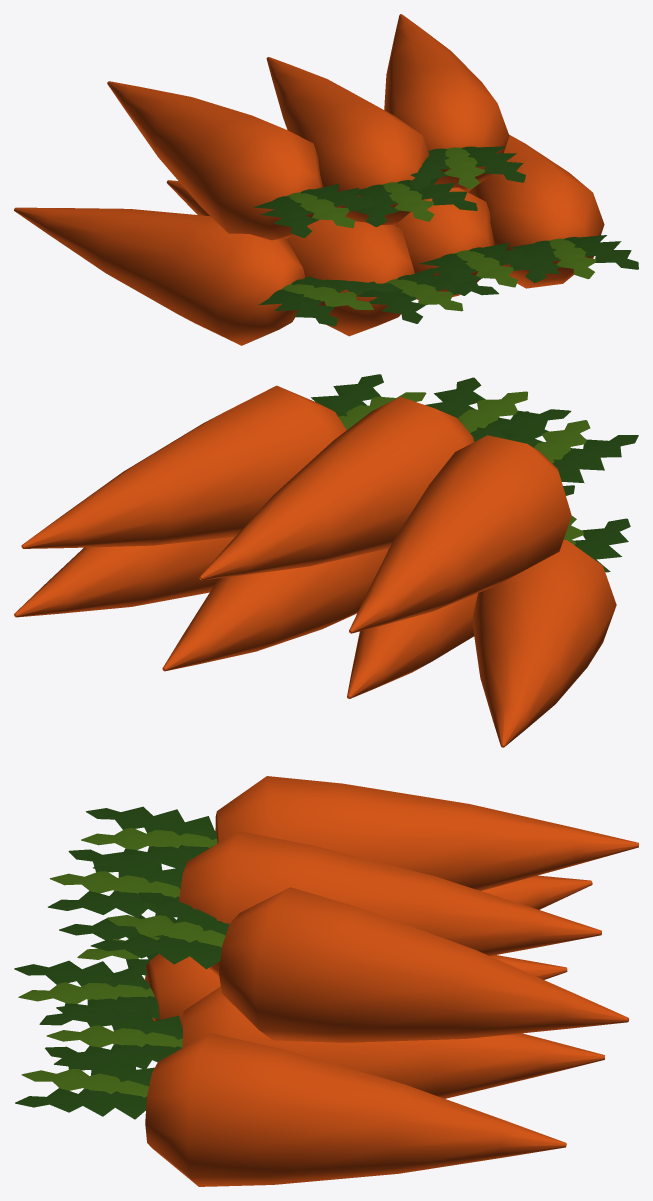
The model's file is pile-vegetable-7.obj.
3 views of the same model, one above another, from view 1: azimuth 30°, elevation 25°; view 2: azimuth 150°, elevation 25°; view 3: azimuth 270°, elevation 25° (orthographic). The views are drawn at different scales.
Visible parts, largest first — view 1: pile-vegetable-7; view 2: pile-vegetable-7; view 3: pile-vegetable-7.
Boxes of the visible parts, left/top/right/bottom form: pile-vegetable-7: left=14, top=14, right=638, bottom=345; pile-vegetable-7: left=14, top=374, right=638, bottom=747; pile-vegetable-7: left=14, top=776, right=638, bottom=1186.
Size of the model in its own units: 0.6447 by 0.272 by 0.6406.
Materials: 1 (1 with a texture image).
